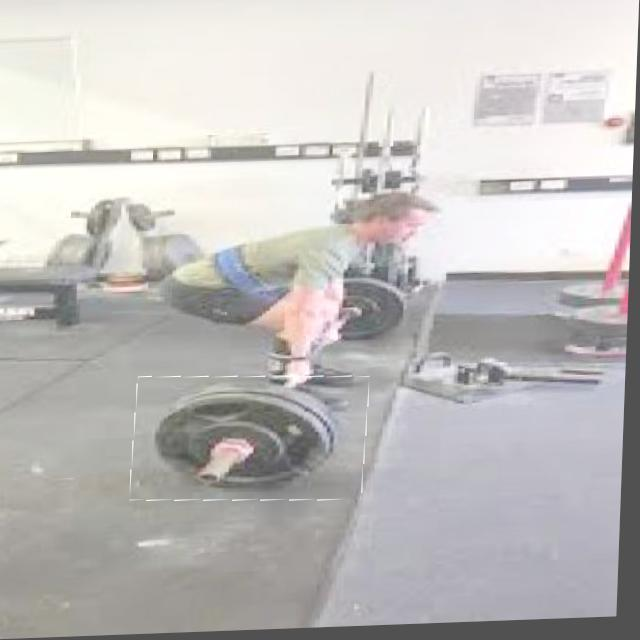barbell: (135, 374, 373, 508)
